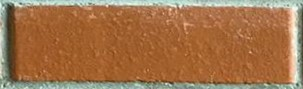redbrick: (1, 1, 303, 89)
